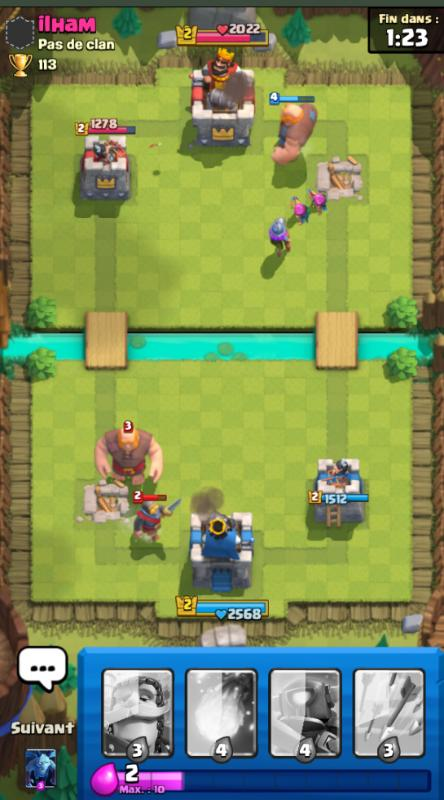archere: (307, 187, 328, 217), (293, 195, 310, 227)
chevalier: (134, 495, 182, 544)
geant: (97, 426, 163, 486), (272, 102, 318, 167)
mousquetaire: (269, 217, 292, 260)
